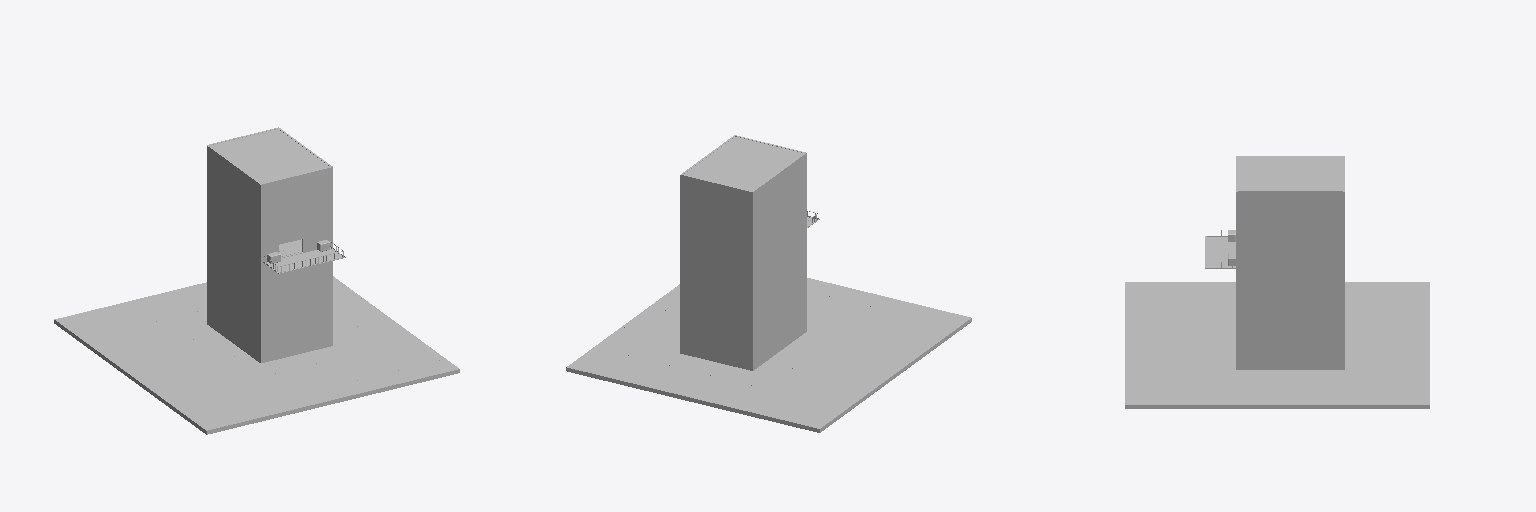
File: Piso.obj
3 views of the same model, side by side, from view 1: azimuth 30°, elevation 25°; view 2: azimuth 150°, elevation 25°; view 3: azimuth 270°, elevation 25° (orthographic).
Parts seen in each view (by area): view 1: Wall.003_Plane.007, Wall.001_Plane.005, Plane.079_Plane.042, Plane.001_Plane.003, Plane.052_Plane.064, Plane.040_Plane.045, Plane.032_Plane.037, Plane.035_Plane.040, Plane.027_Plane.032, Plane.043_Plane.048, Plane.048_Plane.053, Plane.051_Plane.063 (+9 smaller); view 2: Wall.002_Plane.006, Wall.001_Plane.005, Plane.079_Plane.042, Plane.073_Plane.019, Plane.078_Plane.041, Plane.070_Plane.082, Plane.066_Plane.078, Plane.061_Plane.073, Plane.069_Plane.081, Plane.060_Plane.072, Plane.052_Plane.064, Plane.075_Plane.021 (+8 smaller); view 3: Wall_Plane.004, Plane.079_Plane.042, Plane.001_Plane.003, Plane.025_Plane.030, Plane.024_Plane.029, Plane.022_Plane.027, Plane.028_Plane.033, Plane.027_Plane.032, Plane.026_Plane.031, Plane.071_Plane.083, Plane.070_Plane.082, Plane.023_Plane.028 (+2 smaller).
Boxes of the visible parts, box(x1,y1,x2,y2) form: Wall.003_Plane.007: box(260, 166, 332, 362); Wall.001_Plane.005: box(207, 145, 260, 362); Plane.079_Plane.042: box(210, 129, 329, 182); Plane.001_Plane.003: box(263, 246, 345, 273); Plane.052_Plane.064: box(193, 412, 242, 434); Plane.040_Plane.045: box(302, 385, 351, 407); Plane.032_Plane.037: box(266, 394, 314, 416); Plane.035_Plane.040: box(230, 403, 278, 425); Plane.027_Plane.032: box(411, 359, 459, 381); Plane.043_Plane.048: box(338, 377, 387, 398); Plane.048_Plane.053: box(374, 368, 423, 390); Plane.051_Plane.063: box(110, 351, 158, 373); Wall.002_Plane.006: box(680, 174, 752, 370); Wall.001_Plane.005: box(752, 153, 806, 370); Plane.079_Plane.042: box(684, 137, 802, 190); Plane.073_Plane.019: box(784, 410, 833, 432); Plane.078_Plane.041: box(747, 401, 796, 423); Plane.070_Plane.082: box(566, 357, 615, 379); Plane.066_Plane.078: box(675, 384, 724, 406); Plane.061_Plane.073: box(638, 375, 687, 397); Plane.069_Plane.081: box(711, 393, 760, 414); Plane.060_Plane.072: box(602, 366, 650, 388); Plane.052_Plane.064: box(923, 309, 971, 331); Plane.075_Plane.021: box(812, 390, 860, 412); Wall_Plane.004: box(1238, 191, 1342, 369); Plane.079_Plane.042: box(1238, 157, 1342, 190); Plane.001_Plane.003: box(1205, 236, 1235, 268); Plane.025_Plane.030: box(1264, 388, 1291, 408); Plane.024_Plane.029: box(1236, 388, 1263, 408); Plane.022_Plane.027: box(1319, 388, 1346, 408); Plane.028_Plane.033: box(1181, 388, 1208, 408); Plane.027_Plane.032: box(1125, 388, 1152, 408); Plane.026_Plane.031: box(1153, 388, 1180, 408); Plane.071_Plane.083: box(1347, 388, 1374, 408); Plane.070_Plane.082: box(1402, 388, 1429, 408); Plane.023_Plane.028: box(1292, 388, 1318, 408).
Bounding box in the file's own units: 68.23 × 47.08 × 72.05.